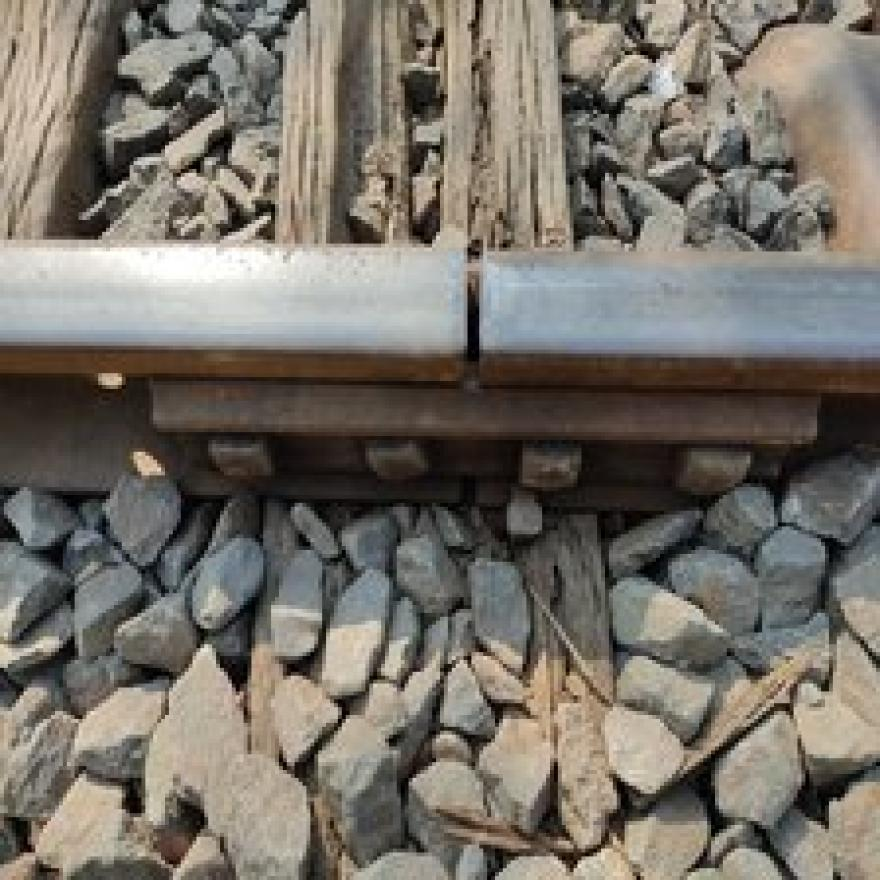railway-gap: (389, 225, 565, 407), (438, 459, 503, 522)
